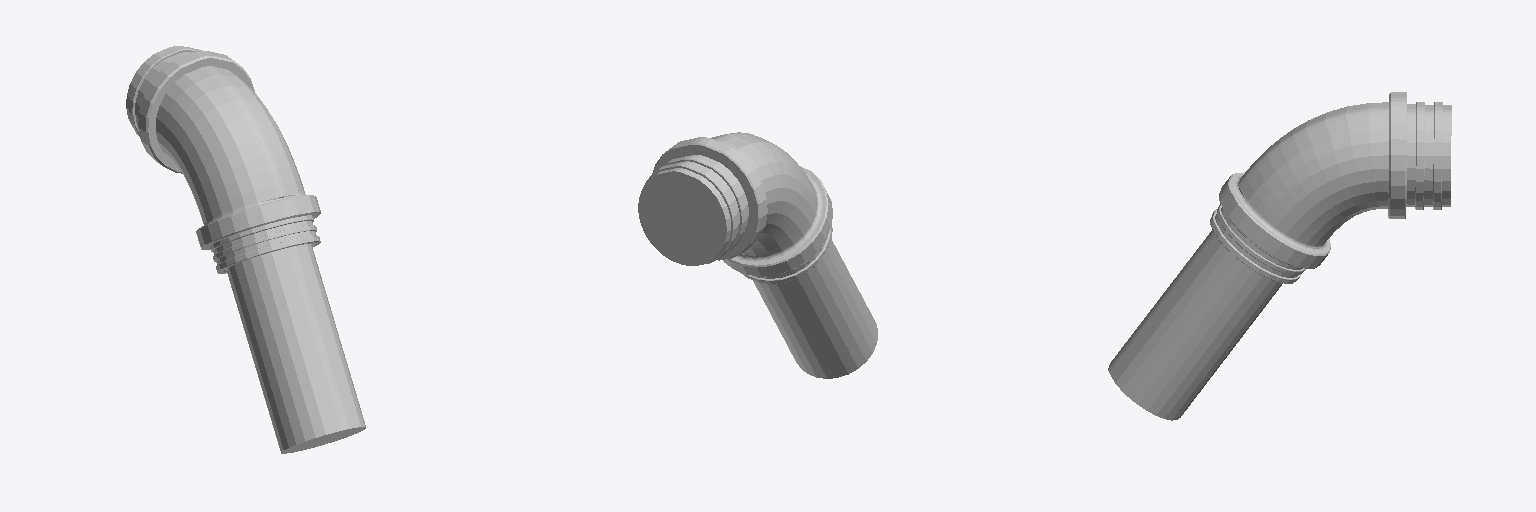
Rendered from Pipe_Turn.obj.
3 renders of one model, left to right at view 1: azimuth 30°, elevation 25°; view 2: azimuth 150°, elevation 25°; view 3: azimuth 270°, elevation 25°, orthographic.
Parts seen in each view (by area): view 1: Cylinder.016; view 2: Cylinder.016; view 3: Cylinder.016.
Part boxes in pixels (bbox=[...]): Cylinder.016: bbox=[126, 46, 365, 453]; Cylinder.016: bbox=[638, 132, 877, 378]; Cylinder.016: bbox=[1108, 92, 1451, 420].
Bounding box in the file's own units: 0.5386 × 1.47 × 1.45.